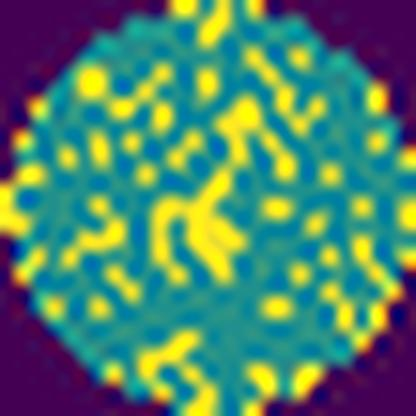Center: (154, 173, 251, 288)
